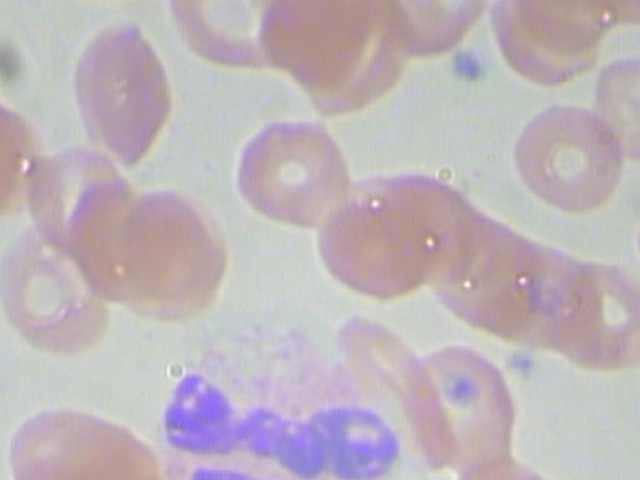Platelets: (445, 43, 493, 89), (502, 342, 550, 387)
RBC: (60, 15, 191, 176), (224, 105, 366, 241), (492, 91, 634, 226), (0, 202, 117, 364), (313, 179, 437, 314), (109, 188, 233, 323), (409, 333, 517, 480), (422, 200, 532, 333), (466, 225, 576, 357), (380, 168, 489, 300), (0, 382, 127, 480), (486, 0, 626, 85), (152, 0, 303, 73), (558, 250, 640, 382), (53, 400, 184, 480), (579, 42, 640, 177), (343, 0, 503, 51), (0, 54, 40, 216)
WBC: (156, 321, 419, 480)
